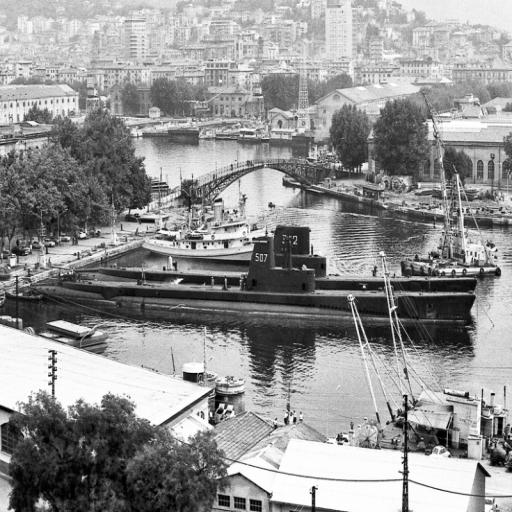submarine: (46, 236, 481, 322), (73, 221, 491, 294)
